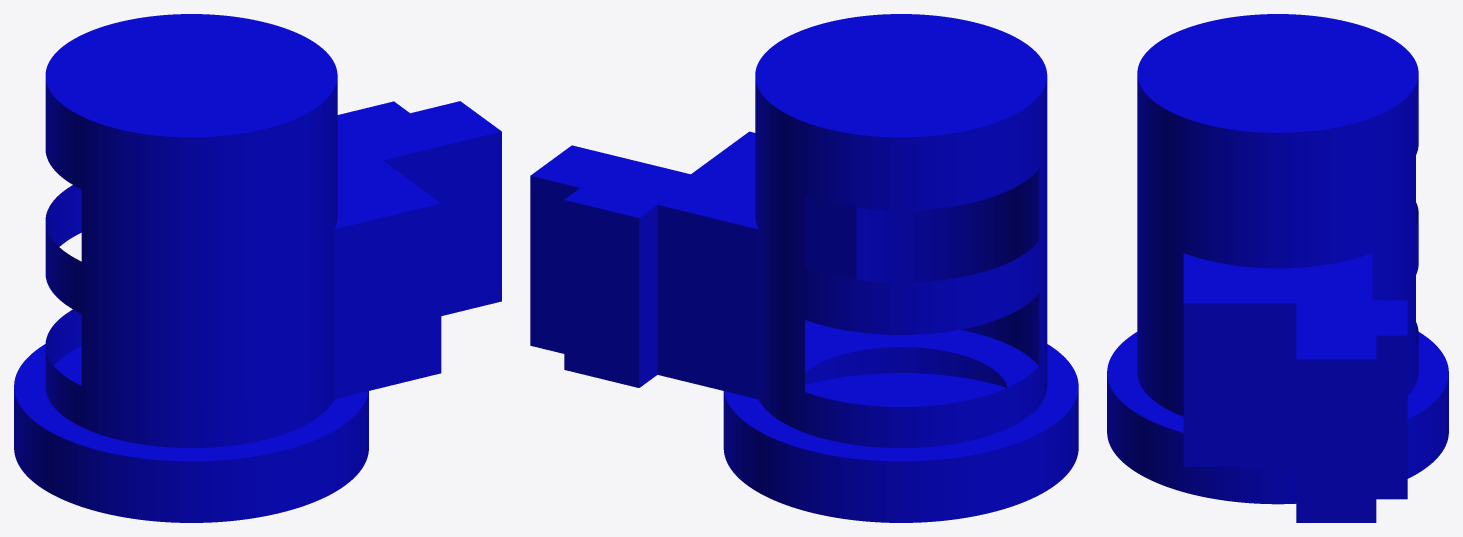
Rendered from mr009shadow001s001.fbx.
3 renders of one model, left to right at view 1: azimuth 30°, elevation 25°; view 2: azimuth 150°, elevation 25°; view 3: azimuth 270°, elevation 25°, orthographic. The views are drawn at different scales.
Visible parts, largest first — view 1: mr008shadow001op001, mr008shadow001op002; view 2: mr008shadow001op001, mr008shadow001op002; view 3: mr008shadow001op001.
Boxes of the visible parts, box(x1,y1,x2,y2) form: mr008shadow001op001: box(14, 14, 501, 522); mr008shadow001op002: box(54, 346, 81, 385); mr008shadow001op001: box(530, 14, 1078, 522); mr008shadow001op002: box(805, 330, 1038, 387); mr008shadow001op001: box(1107, 14, 1448, 522).
Bounding box in the file's own units: 945 × 710 × 614.
